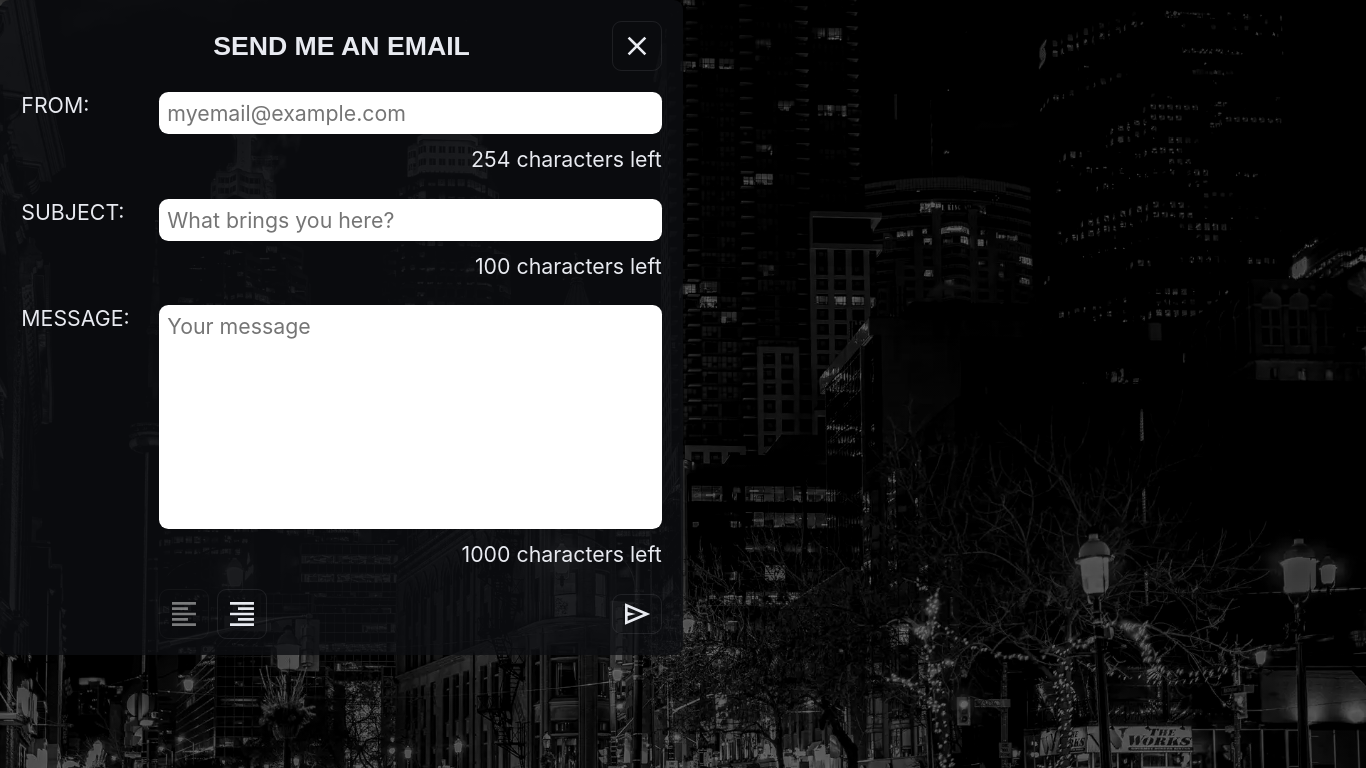
it: MessageForm › updates the character counter as the user types in the subject field
Type "Hello" into the field labelled "Subject:". click: (410, 220)
box: [159,199,662,241]
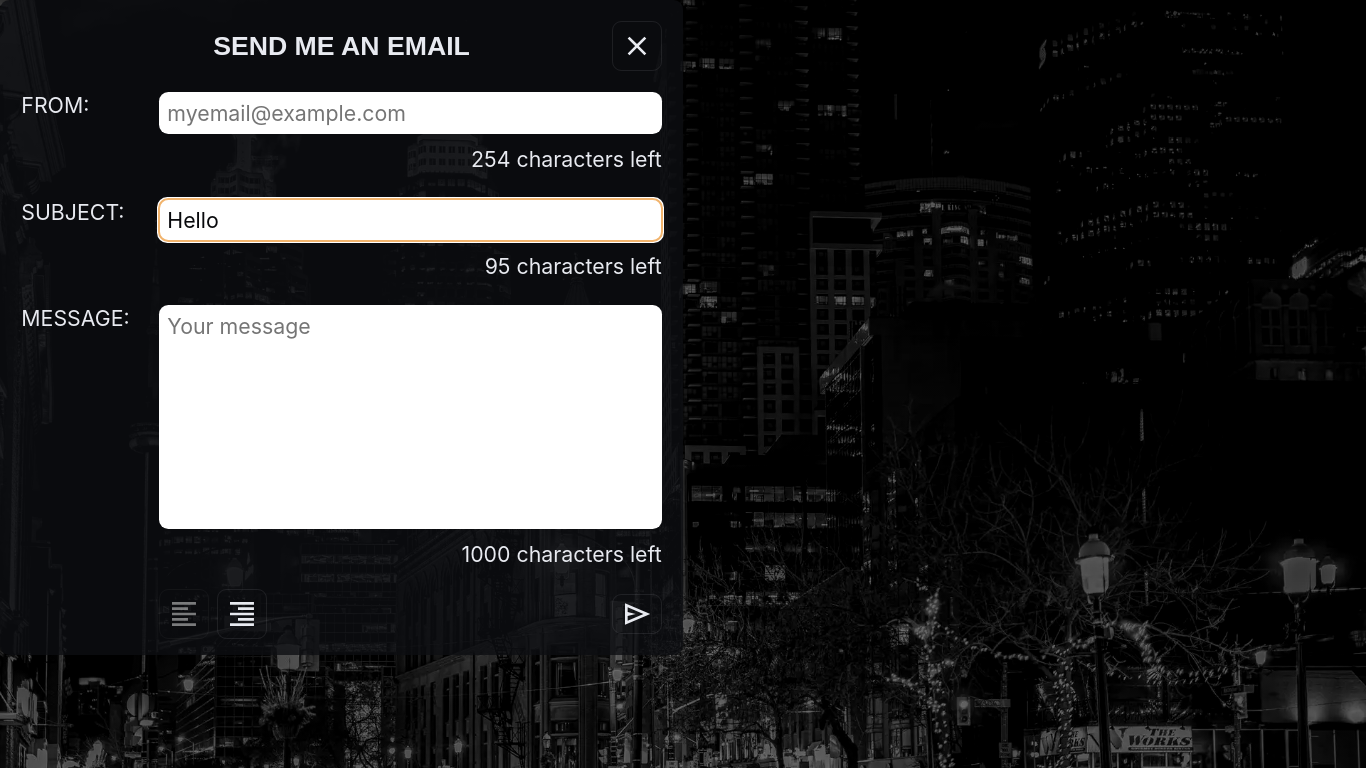
Expected: the text "95 characters left" is shown, [485,249,662,284]
